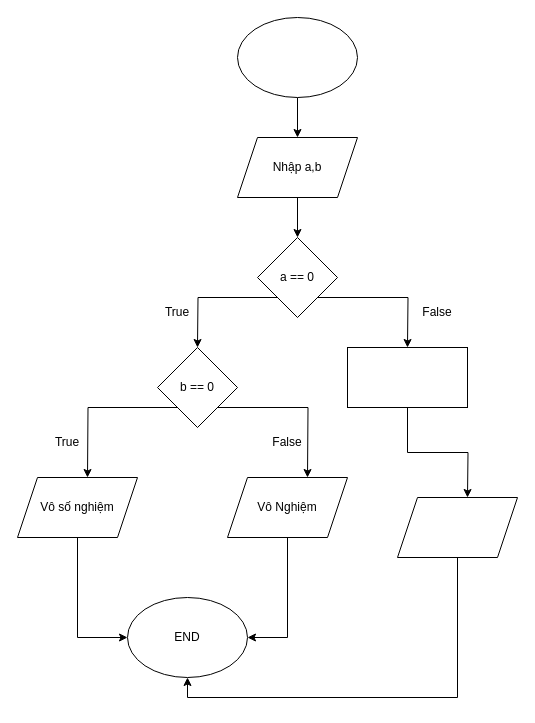
The diagram is 535 pixels wide and 723 high, and some of its shapes have lost their labels. The box of each missing label's shape, as (x1, y1, x2, y2) in pixels:
Kết quả: (396, 496, 518, 558)
Start: (236, 16, 358, 98)
Tính x = -b / a: (346, 346, 468, 408)
